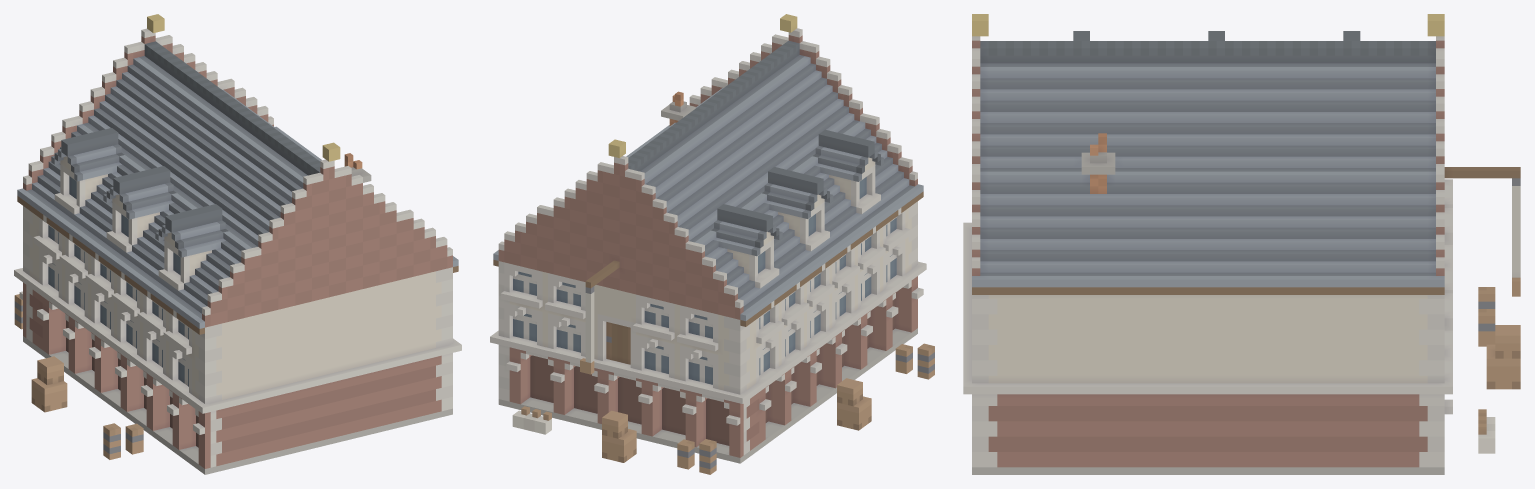
Rendered from warehouse.l4.glb.
3 views of the same model, side by side, from view 1: azimuth 30°, elevation 25°; view 2: azimuth 150°, elevation 25°; view 3: azimuth 270°, elevation 25° (orthographic). The views are drawn at different scales.
Parts seen in each view (by area): view 1: warehouse; view 2: warehouse; view 3: warehouse.
Part boxes in pixels (bbox=[...]): warehouse: bbox=[14, 14, 461, 474]; warehouse: bbox=[490, 14, 934, 474]; warehouse: bbox=[963, 14, 1520, 474].
Bounding box in the file's own units: 4.58 × 4.17 × 5.5.
